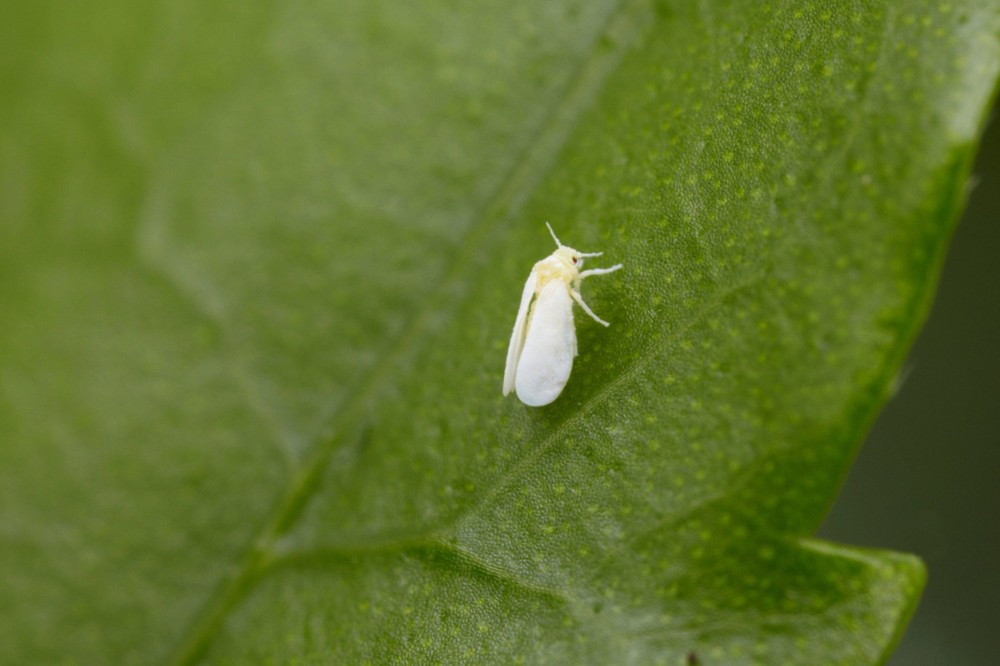Mosca Blanca: (481, 210, 639, 420)
